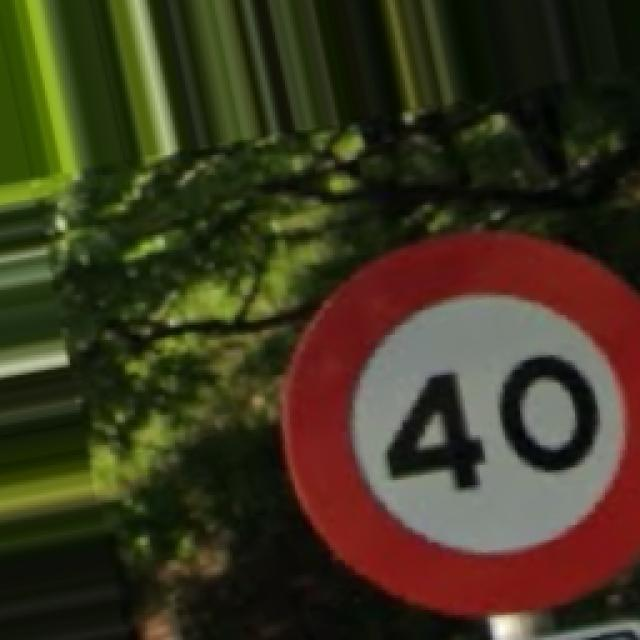Speed Limit -40-: (282, 232, 638, 612)
